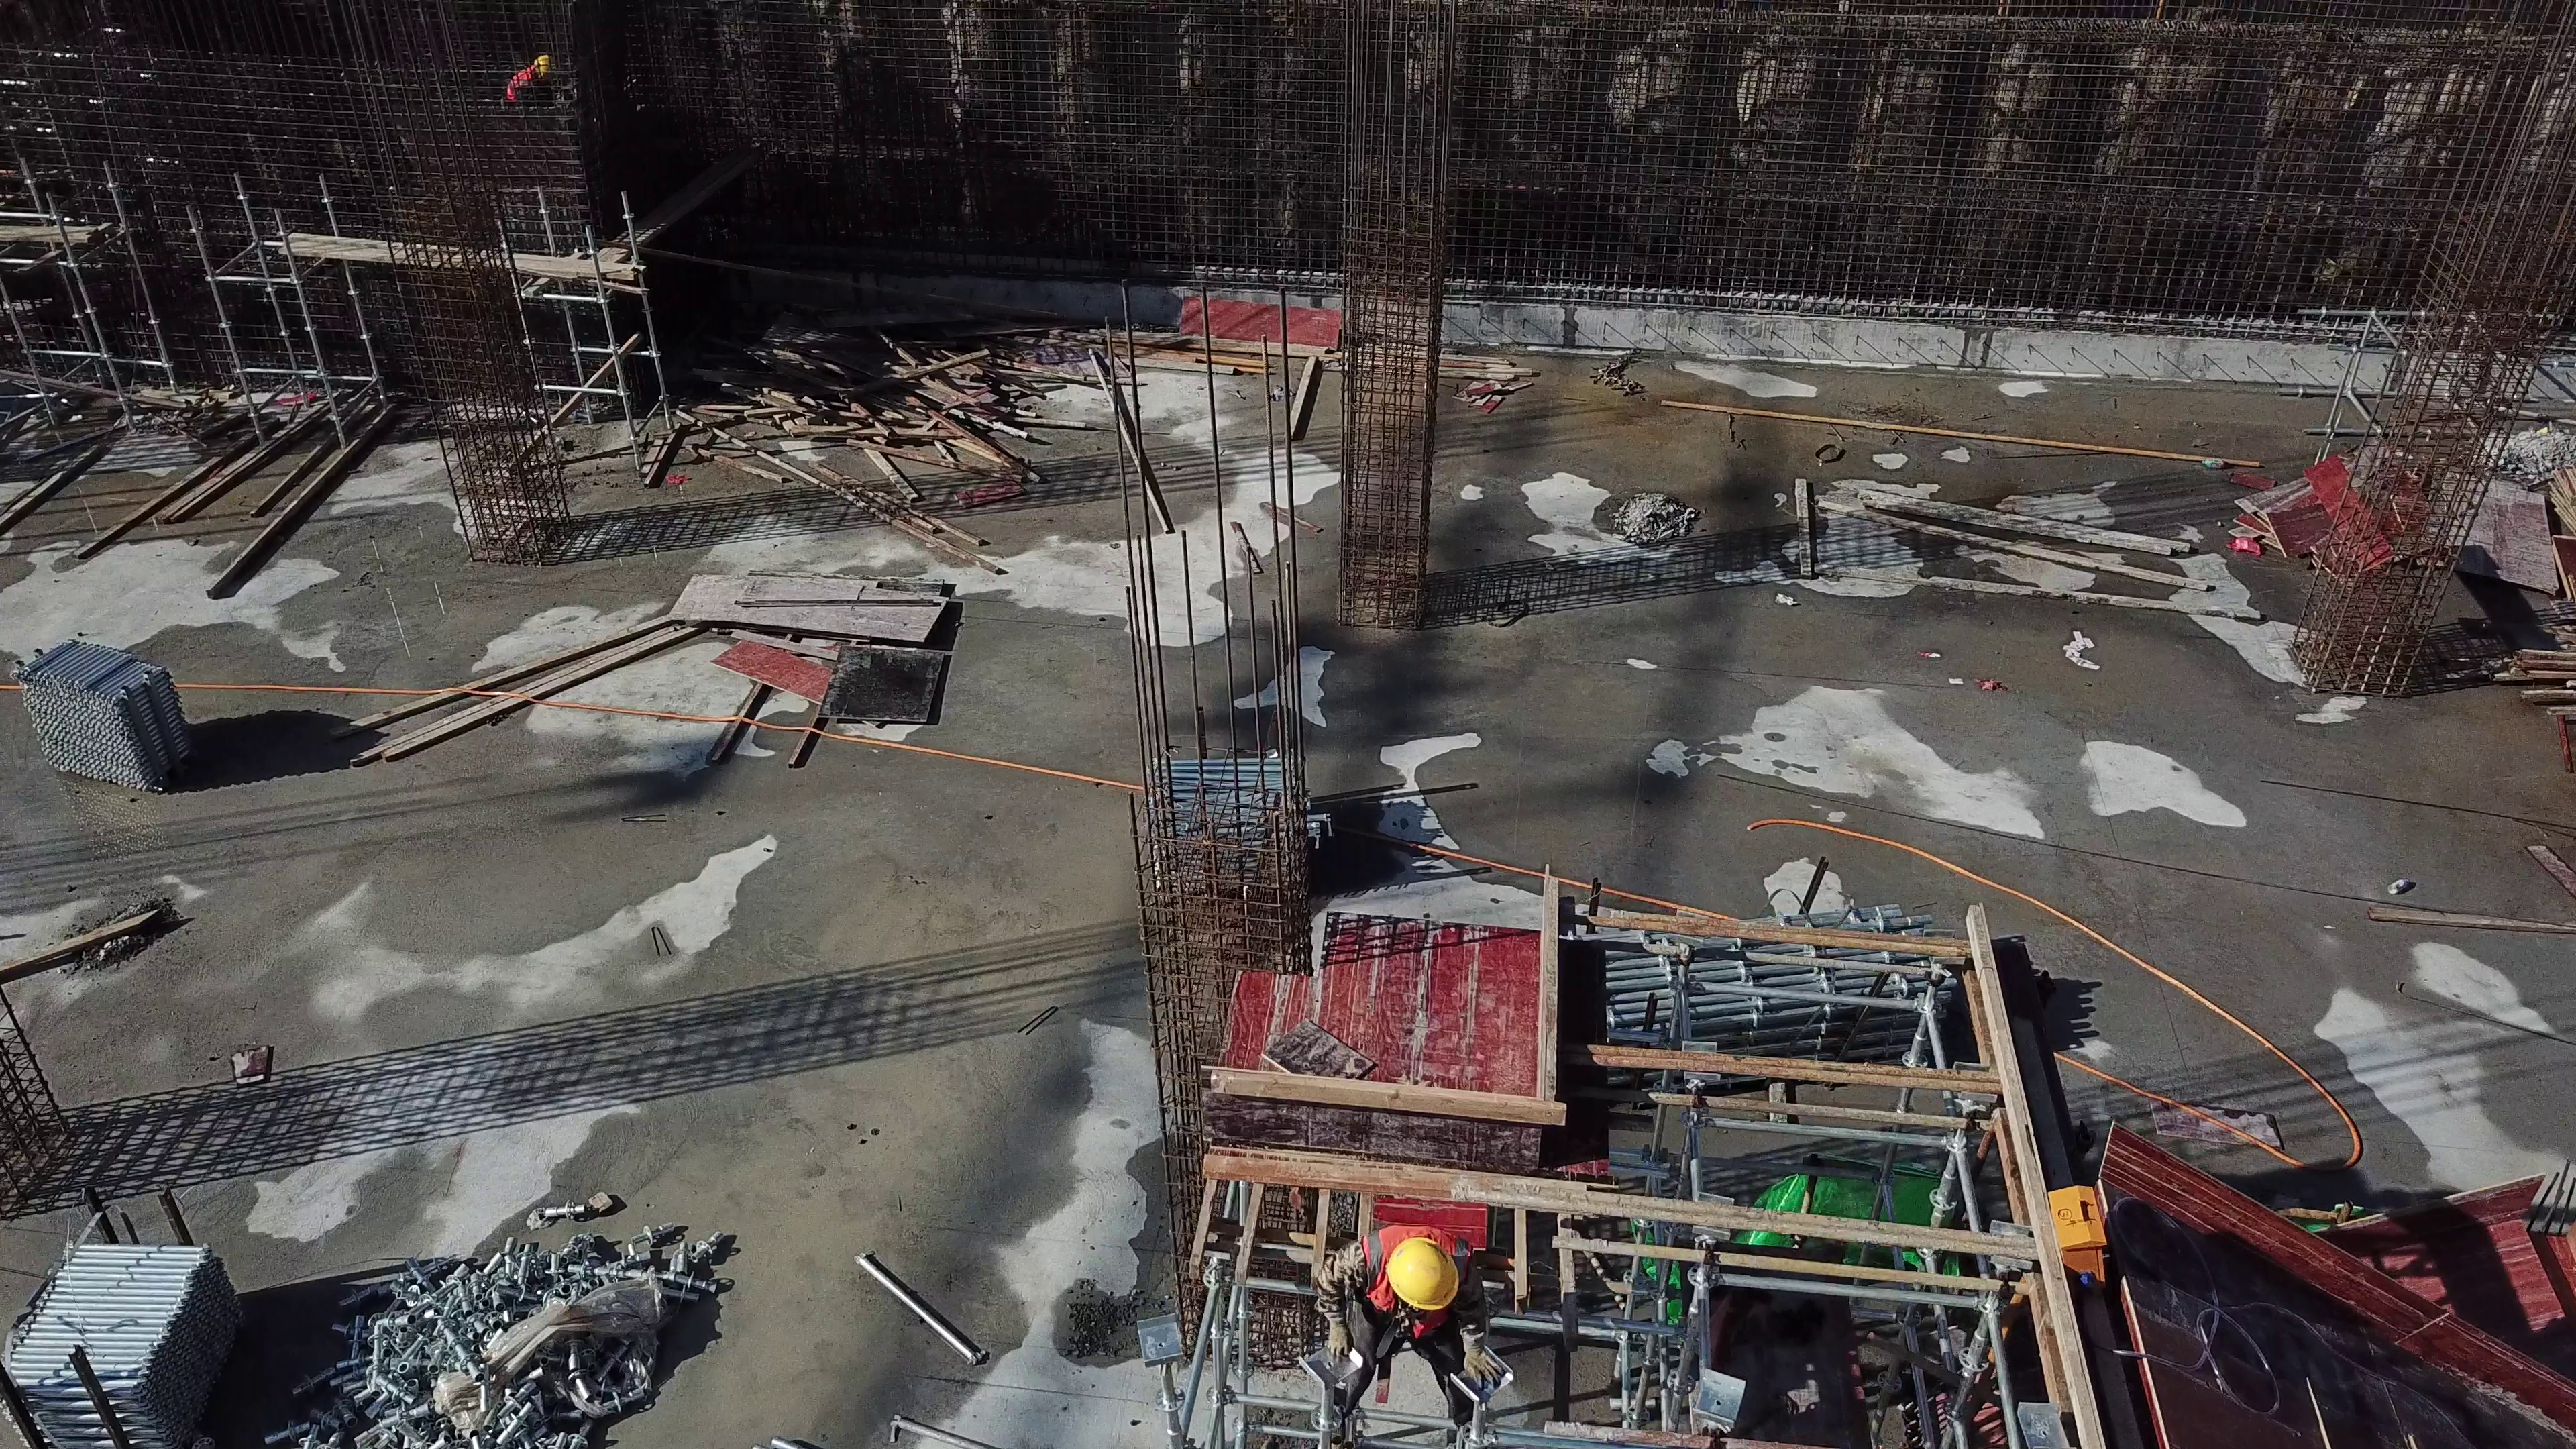helmet: (1388, 1240, 1458, 1313)
person: (1294, 1231, 1521, 1421)
scaffold: (5, 1228, 241, 1449), (1587, 911, 1972, 1045)
vest: (1360, 1224, 1396, 1314)
